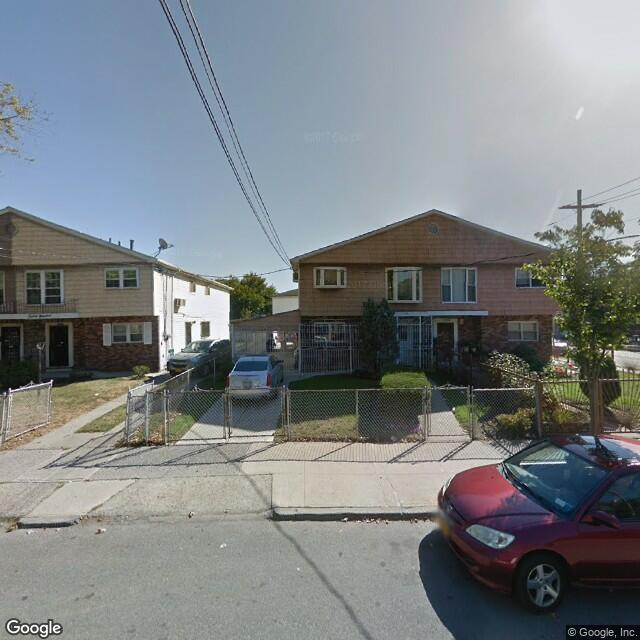litter: (295, 566, 304, 572), (220, 543, 227, 547)
